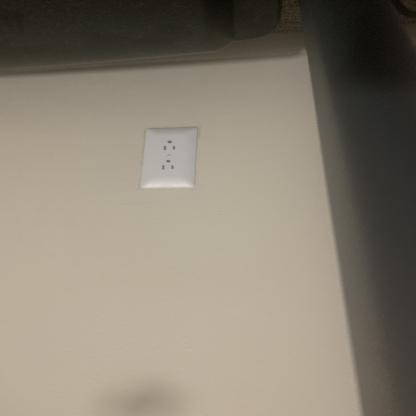OUTLET: (142, 128, 199, 188)
